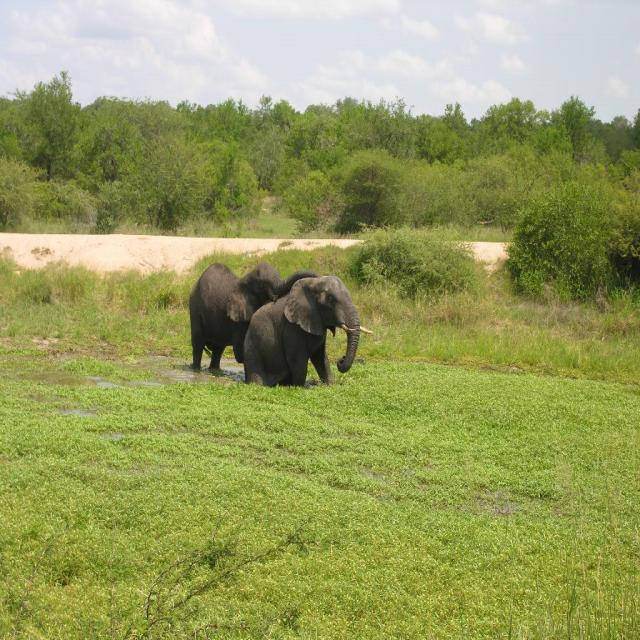elephant: (242, 275, 367, 389), (182, 262, 272, 382)
